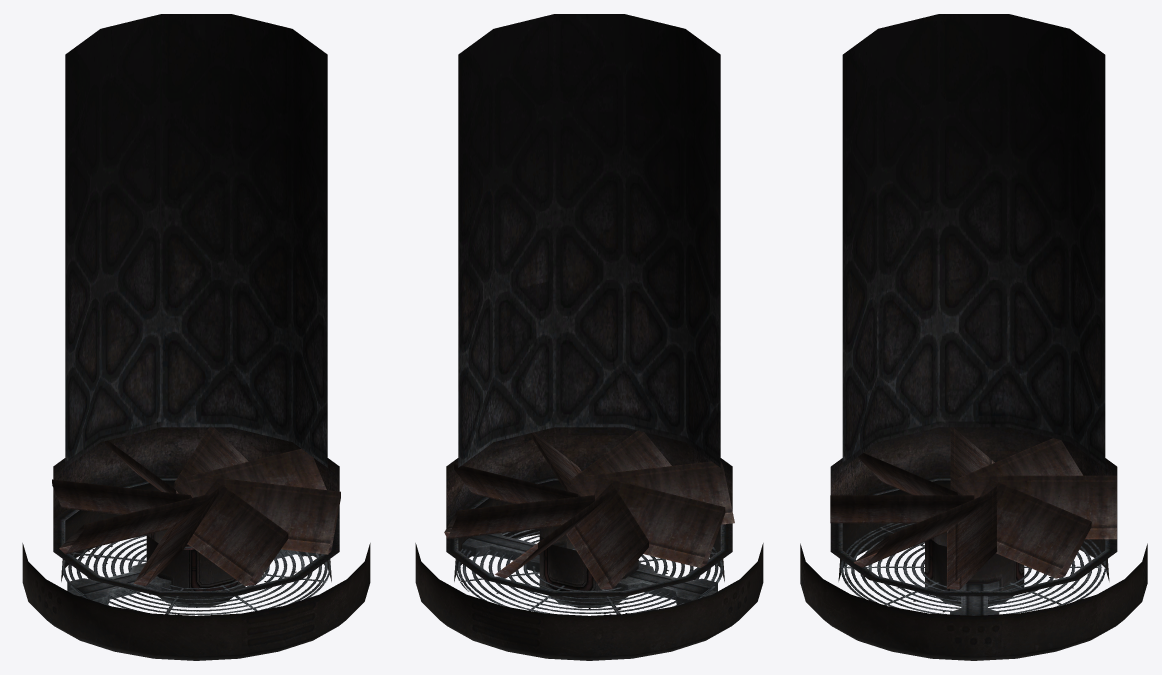
Rendered from fan_roof.dae.
3 views of the same model, side by side, from view 1: azimuth 30°, elevation 25°; view 2: azimuth 150°, elevation 25°; view 3: azimuth 270°, elevation 25° (orthographic).
Visible parts, largest first — view 1: fan, fan_blades, grate; view 2: fan, fan_blades, grate; view 3: fan, fan_blades, grate.
Boxes of the visible parts, x1=… form: fan: x1=22, y1=14, x2=370, y2=660; fan_blades: x1=52, y1=427, x2=340, y2=586; grate: x1=62, y1=534, x2=330, y2=615; fan: x1=415, y1=14, x2=763, y2=660; fan_blades: x1=444, y1=430, x2=734, y2=589; grate: x1=455, y1=529, x2=723, y2=614; fan: x1=800, y1=14, x2=1147, y2=660; fan_blades: x1=830, y1=427, x2=1116, y2=589; grate: x1=840, y1=523, x2=1107, y2=614.
Bounding box in the file's own units: 2 × 3.31 × 2.
2 materials, 2 textured.
